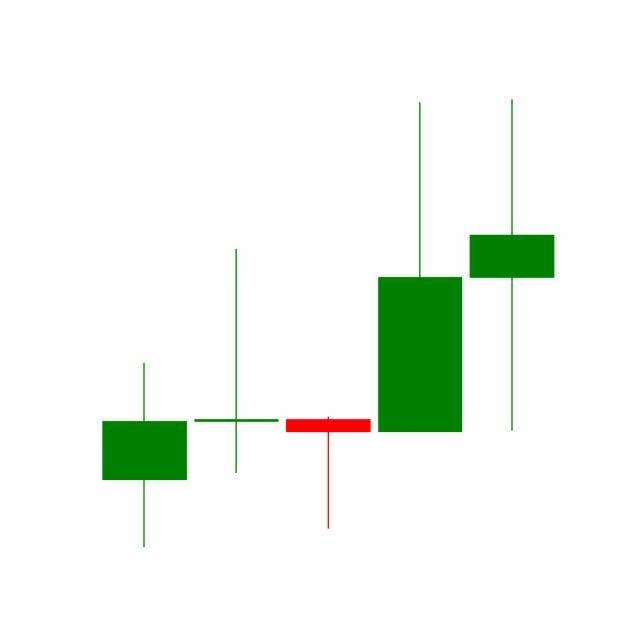Spinning Top: (466, 97, 559, 436)
